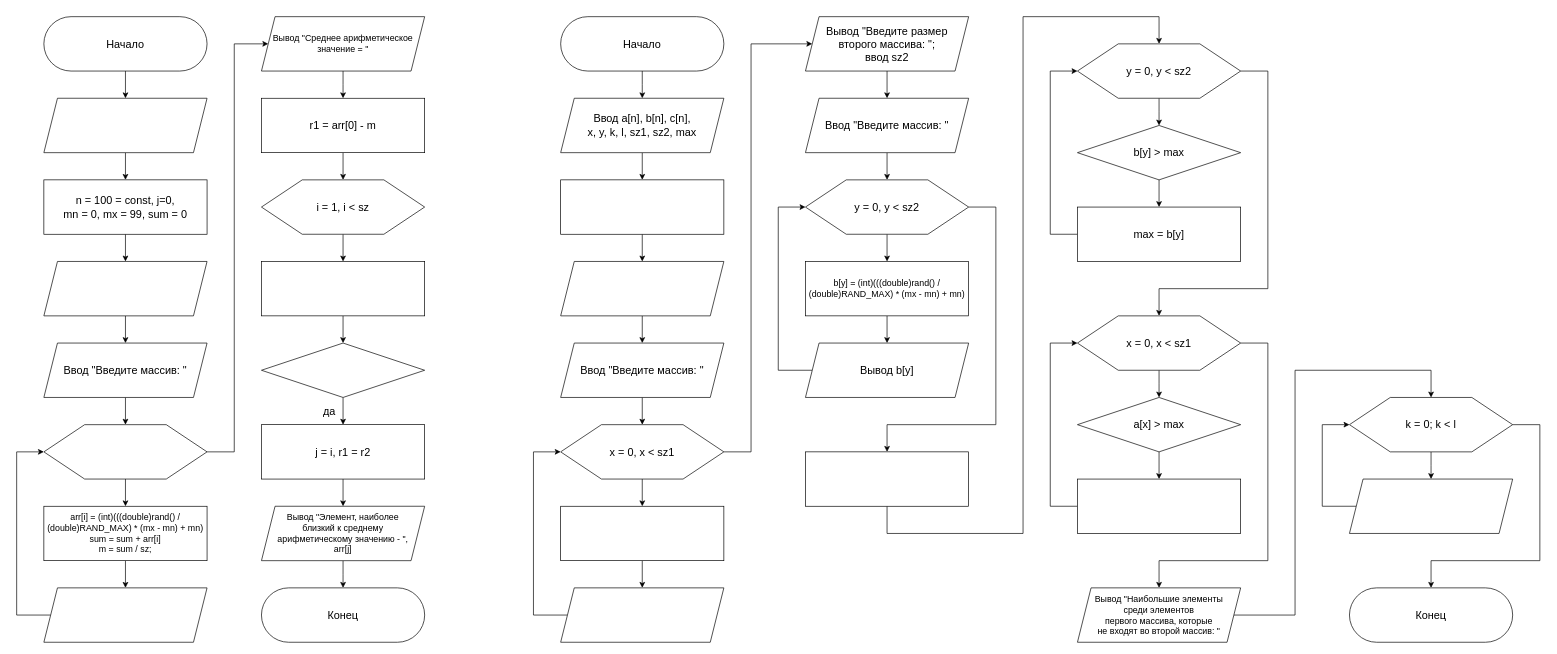
Some shapes in this 1557 by 654 pixel diagram are drawn without their labels. The shapes that lost their labels are listed below. From the top down, each one's centre as x and y in pixels, then its label:
(125,125): Ввод n, arr[n], mn, mx, i, j, sz, sum, m, r1, r2
(642,206): k = 0
(125,288): Вывод "Введите размер массива: "; ввод sz
(343,288): r2 = arr[i] - m
(642,288): Вывод "Введите размер первого массива: "; ввод sz1
(343,369): abs(r1) > abs(r2)
(125,451): i = 0, i < sz
(887,478): max = b[0]
(1159,505): c[k++] = a[x], l = k
(1431,505): Вывод c[k]
(642,533): a[x] = (int)(((double)rand() / (double)RAND_MAX) * (mx - mn) + mn)
(125,614): Вывод arr[i]
(642,614): Вывод a[x]
